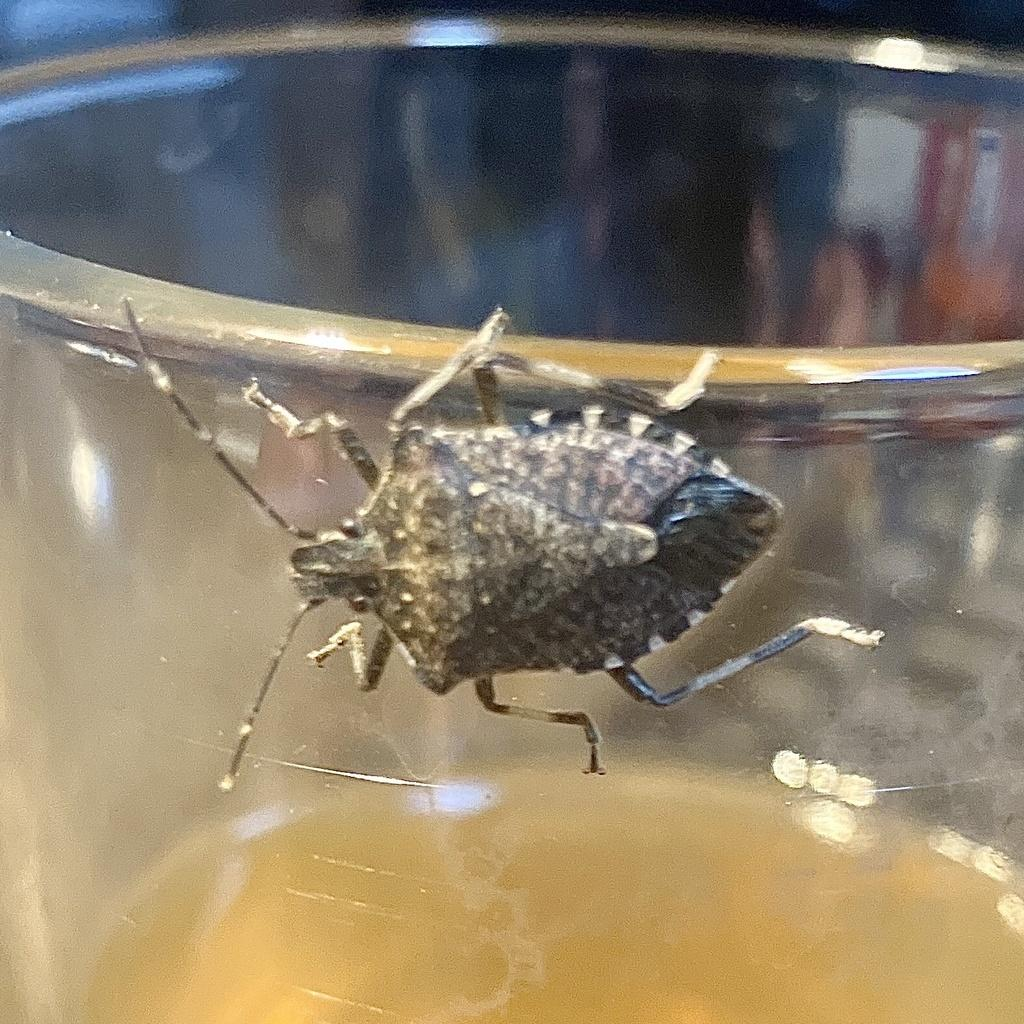stink_bugs: (74, 197, 943, 884)
